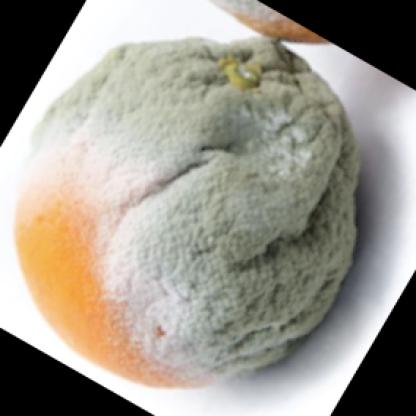rotten: (15, 40, 358, 387)
